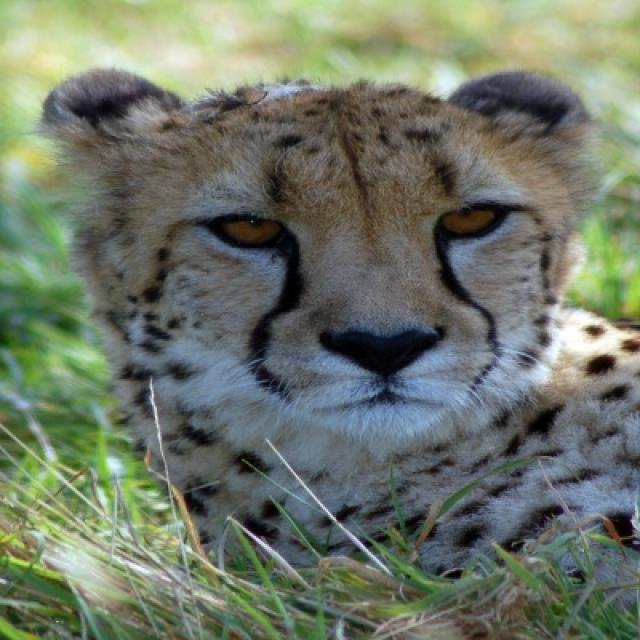Cheetah: (32, 67, 638, 587)
